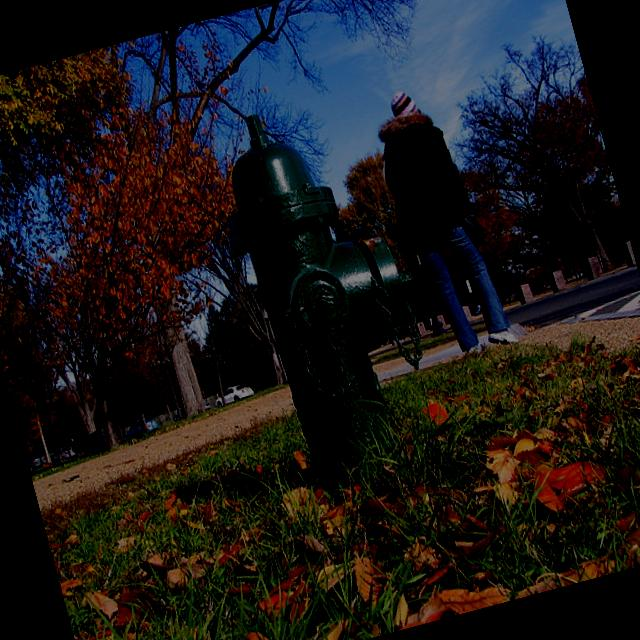Vehicle: (213, 382, 255, 408), (170, 397, 212, 422), (122, 414, 159, 438), (77, 428, 107, 456), (49, 444, 77, 464), (25, 450, 47, 470)
